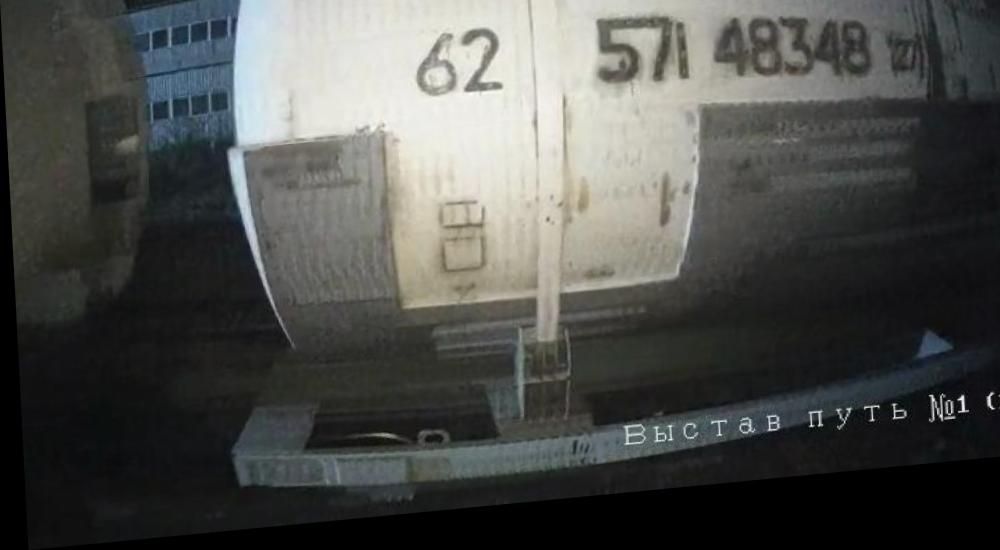Wagon-number: (588, 6, 874, 119)
